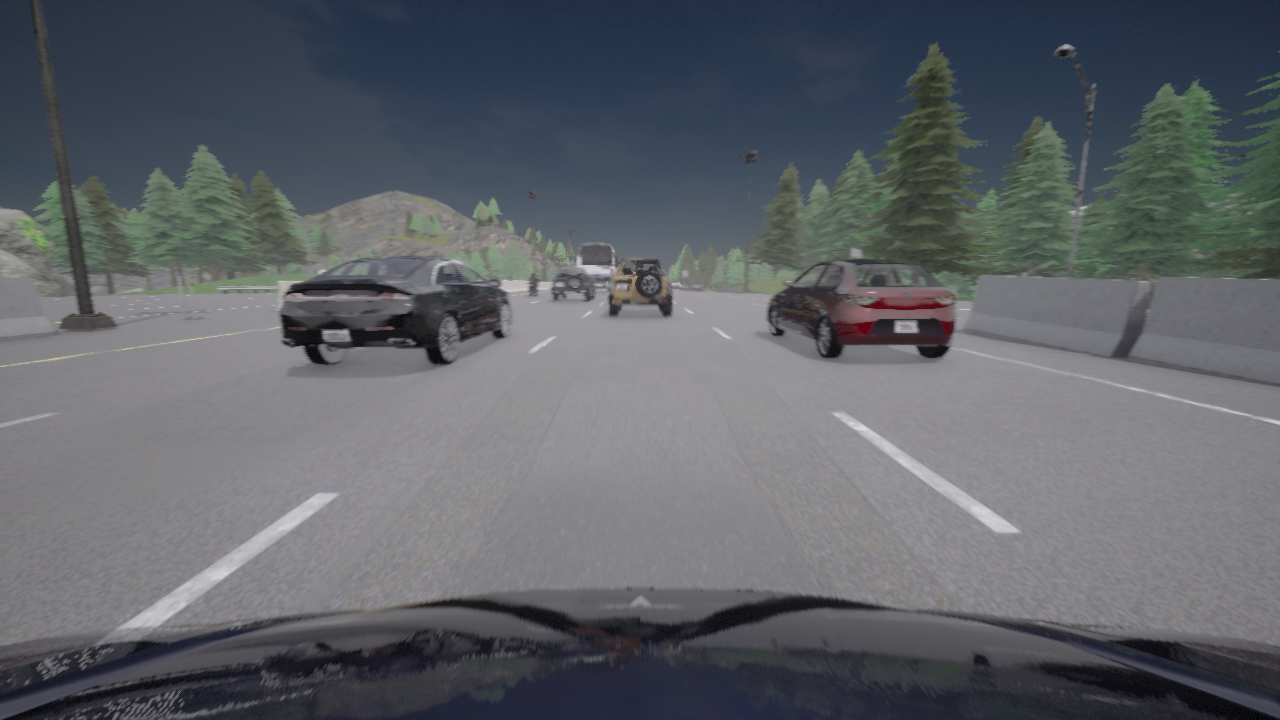cyclist: (0, 588, 1279, 719), (280, 256, 511, 364), (766, 258, 956, 358), (608, 257, 671, 315), (578, 243, 619, 291), (551, 266, 594, 300), (527, 279, 537, 296), (392, 255, 440, 257)
